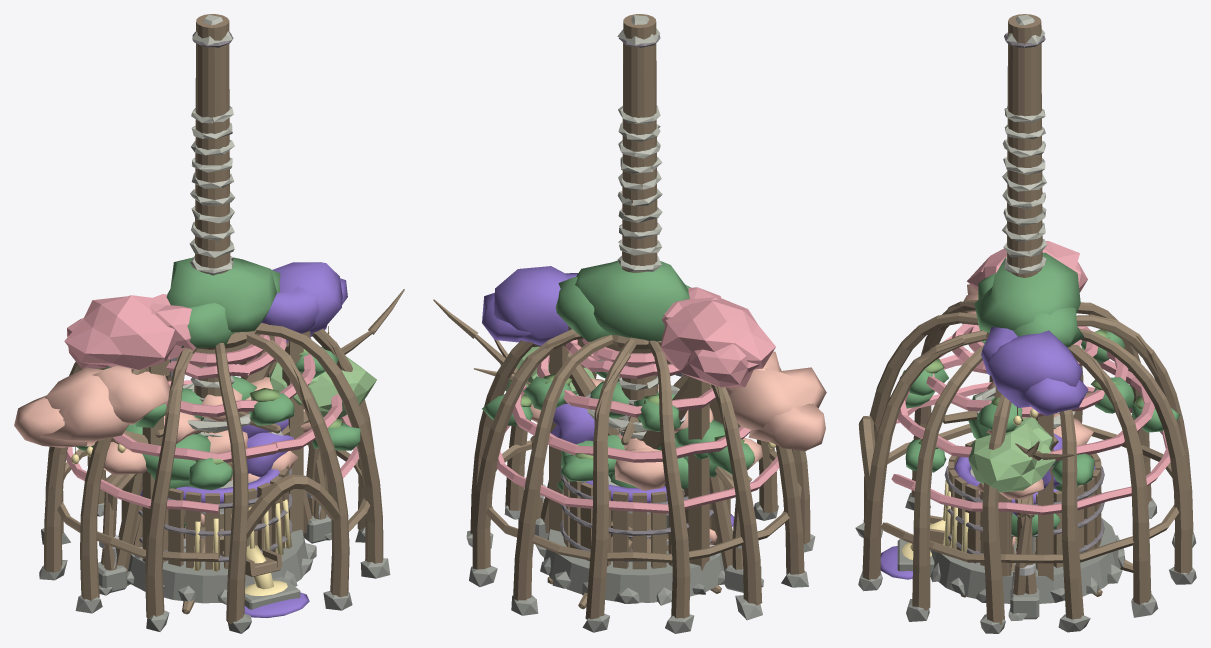
Rendered from CorruptedF32Kit.fbx.
3 views of the same model, side by side, from view 1: azimuth 30°, elevation 25°; view 2: azimuth 150°, elevation 25°; view 3: azimuth 270°, elevation 25° (orthographic).
Visible parts, largest first — view 1: PressHouseRoof__WOOD, GreatCiderPress__WOOD, GraftedCrownTree__CORAL, GraftedCrownTree__ALT, PressHouseRoof__ALT, GraftedCrownTree__FOLIAGE, GreatCiderPress__STONE, GreatCiderPress__TRIM, GraftedCrownTree__CAP, PressHouseRoof__FOLIAGE, PressHouseRoof__STONE, GreatCiderPress__GLOW (+11 smaller); view 2: PressHouseRoof__WOOD, GreatCiderPress__WOOD, PressHouseRoof__ALT, GraftedCrownTree__ALT, GraftedCrownTree__FOLIAGE, GraftedCrownTree__CORAL, GreatCiderPress__STONE, GraftedCrownTree__CAP, GreatCiderPress__TRIM, PressHouseRoof__FOLIAGE, PressHouseRoof__STONE, GraftedCrownTree__WOOD (+7 smaller); view 3: PressHouseRoof__WOOD, GreatCiderPress__WOOD, PressHouseRoof__ALT, GraftedCrownTree__CAP, GraftedCrownTree__FOLIAGE, GreatCiderPress__STONE, PressHouseRoof__FOLIAGE, GraftedCrownTree__ACCENT, GreatCiderPress__TRIM, PressHouseRoof__STONE, GreatCiderPress__METAL, GraftedCrownTree__ALT (+7 smaller).
Part boxes in pixels (x1,y1,x2,y2): PressHouseRoof__WOOD: (44,324,383,623); GreatCiderPress__WOOD: (115,14,312,576); GraftedCrownTree__CORAL: (14,366,170,447); GraftedCrownTree__ALT: (64,294,195,370); PressHouseRoof__ALT: (66,334,359,513); GraftedCrownTree__FOLIAGE: (166,257,280,347); GreatCiderPress__STONE: (115,529,316,609); GreatCiderPress__TRIM: (182,14,259,511); GraftedCrownTree__CAP: (261,262,347,342); PressHouseRoof__FOLIAGE: (76,347,360,490); PressHouseRoof__STONE: (39,503,390,633); GreatCiderPress__GLOW: (193,499,291,595); PressHouseRoof__WOOD: (470,329,810,619); GreatCiderPress__WOOD: (540,14,732,572); PressHouseRoof__ALT: (496,338,779,513); GraftedCrownTree__ALT: (661,287,775,387); GraftedCrownTree__FOLIAGE: (555,260,690,341); GraftedCrownTree__CORAL: (726,351,826,451); GreatCiderPress__STONE: (536,529,724,605); GraftedCrownTree__CAP: (482,266,578,345); GreatCiderPress__TRIM: (587,15,679,486); PressHouseRoof__FOLIAGE: (482,359,754,481); PressHouseRoof__STONE: (466,502,815,633); GraftedCrownTree__WOOD: (433,299,740,609); PressHouseRoof__WOOD: (858,300,1193,624); GreatCiderPress__WOOD: (930,14,1101,580); PressHouseRoof__ALT: (891,323,1170,515); GraftedCrownTree__CAP: (981,327,1088,415); GraftedCrownTree__FOLIAGE: (974,252,1083,347); GreatCiderPress__STONE: (897,518,1125,603); PressHouseRoof__FOLIAGE: (902,323,1180,485); GraftedCrownTree__ACCENT: (968,417,1055,492); GreatCiderPress__TRIM: (970,15,1075,477); PressHouseRoof__STONE: (855,492,1196,633); GreatCiderPress__METAL: (944,32,1104,553); GraftedCrownTree__ALT: (967,241,1087,292).
Bounding box in the file's own units: 80.8 × 110 × 61.32.
